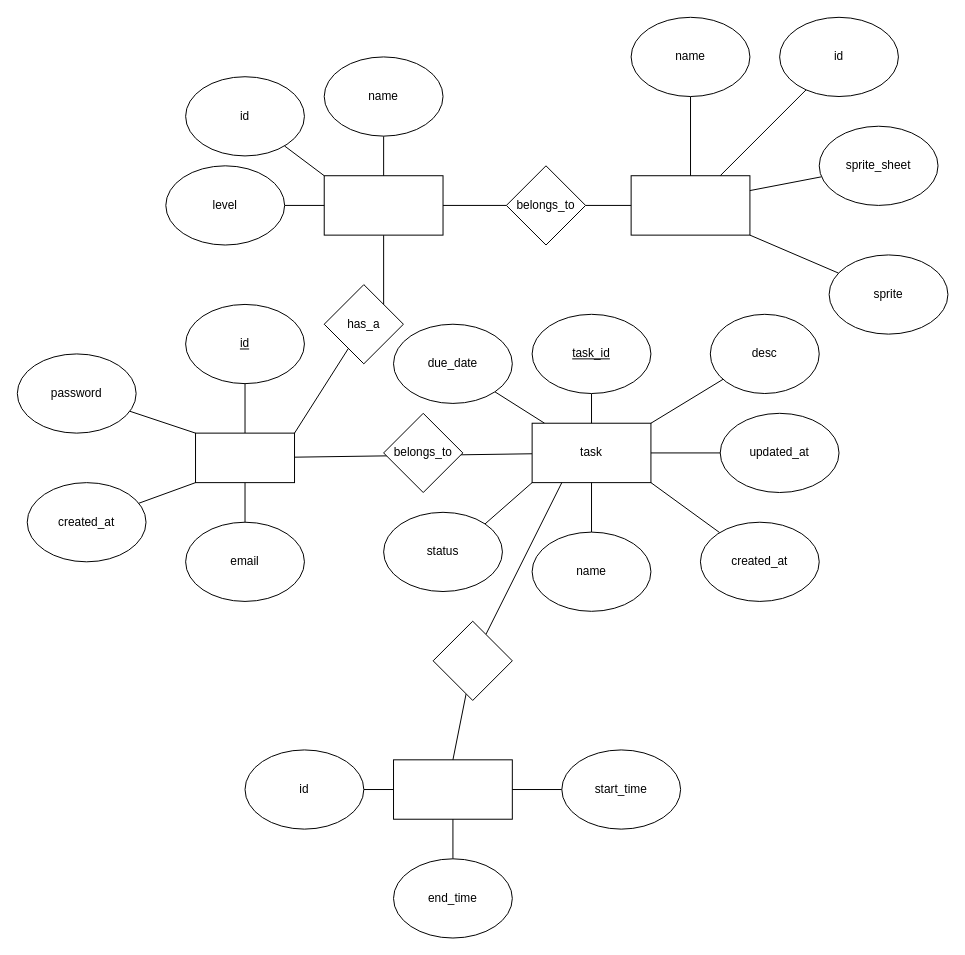
The diagram is 965 pixels wide and 955 high, and some of its shapes have lost their labels. Each missing label, with the centre of its shape:
"has" goes at point 472,660.
"pet" goes at point 383,205.
"pomodoro" goes at point 452,789.
"spicies" goes at point 690,205.
"user" goes at point 245,457.
